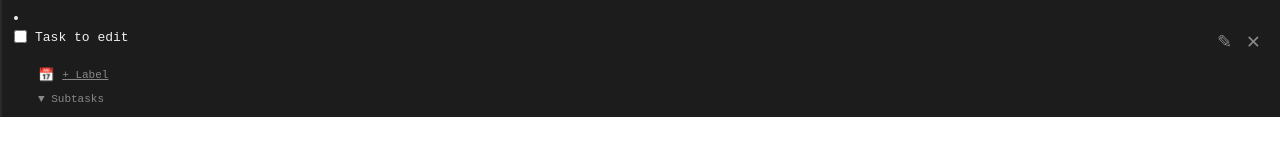
Scenario: TaskRow — inline edit mode (Story 2.4) › mutation failure shows inline error and Retry button (AC4)
Click the button named "edit task title": (1224, 42) [1210,28,1239,58]
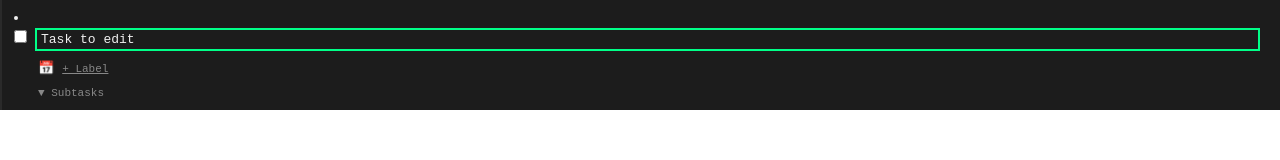
Replace the text in the field named "edit task title: task to edit" with "Failed attempt": (648, 39) [35,28,1260,51]
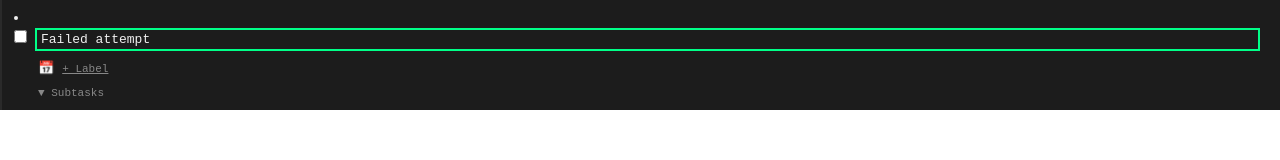
Press Enter
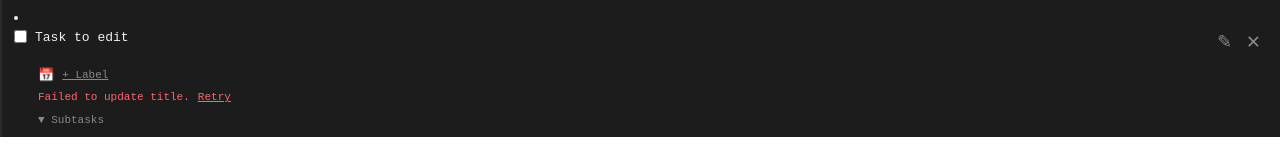
Result: the message "Failed to update title. Retry" is shown at [38,89,231,106]
Result: the button with aria-label "retry saving task to edit" is shown at [198,89,231,106]
